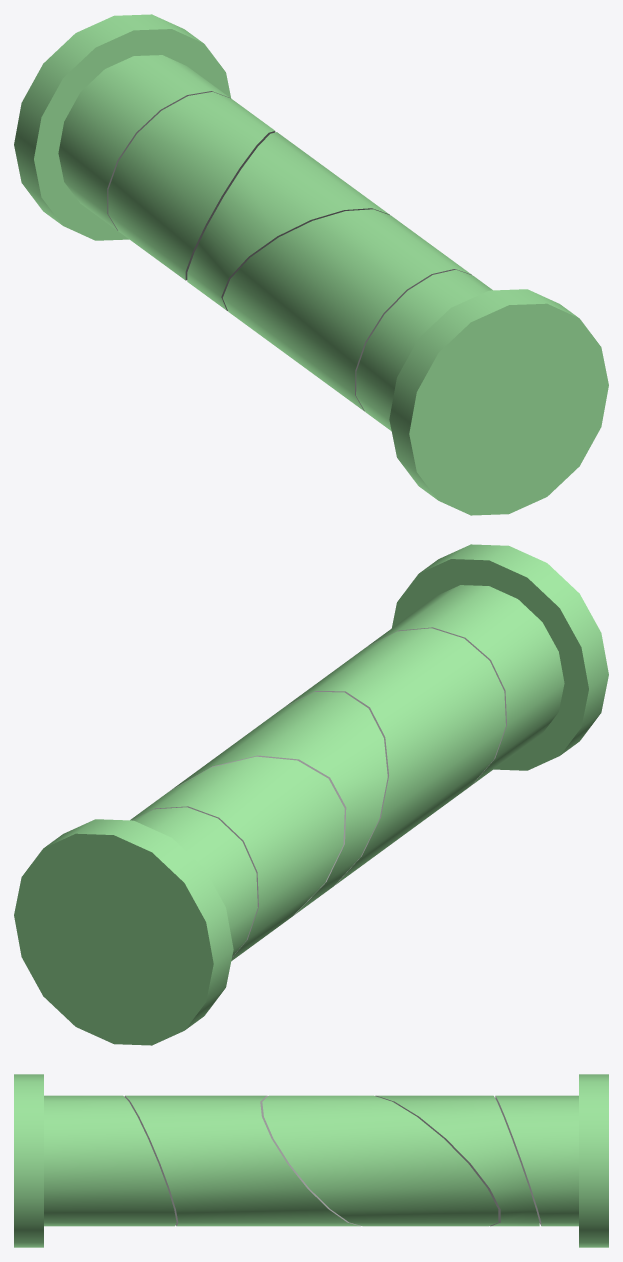
The model's file is CanoRetoCrak.fbx.
3 views of the same model, one above another, from view 1: azimuth 30°, elevation 25°; view 2: azimuth 150°, elevation 25°; view 3: azimuth 270°, elevation 25° (orthographic). The views are drawn at different scales.
Parts seen in each view (by area): view 1: polySurface75, polySurface78, polySurface76, polySurface77, polySurface79; view 2: polySurface78, polySurface75, polySurface76, polySurface77, polySurface79; view 3: polySurface79, polySurface75, polySurface76, polySurface78, polySurface77.
Boxes of the visible parts, x1,y1,x2,y2 form: polySurface75: [356, 269, 608, 515]; polySurface78: [14, 14, 231, 240]; polySurface76: [223, 209, 471, 411]; polySurface77: [108, 92, 275, 280]; polySurface79: [187, 132, 389, 310]; polySurface78: [14, 807, 257, 1045]; polySurface75: [367, 544, 608, 785]; polySurface76: [285, 628, 505, 884]; polySurface77: [130, 756, 344, 960]; polySurface79: [170, 692, 387, 915]; polySurface79: [262, 1095, 498, 1226]; polySurface75: [14, 1074, 176, 1247]; polySurface76: [124, 1095, 360, 1226]; polySurface78: [495, 1074, 608, 1247]; polySurface77: [375, 1095, 539, 1226].
Size of the model in its own units: 11.05 by 11.05 by 37.86.
